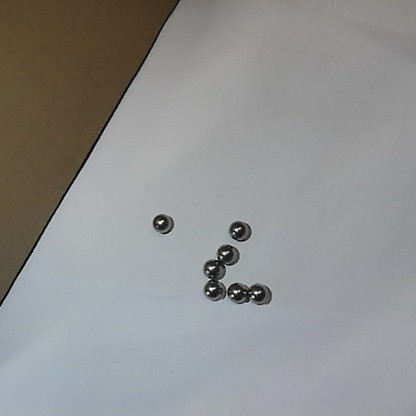ironball: (226, 276, 250, 304), (202, 256, 229, 280), (149, 209, 174, 234), (250, 279, 270, 308), (227, 218, 251, 242), (201, 279, 224, 301), (216, 242, 236, 266)
